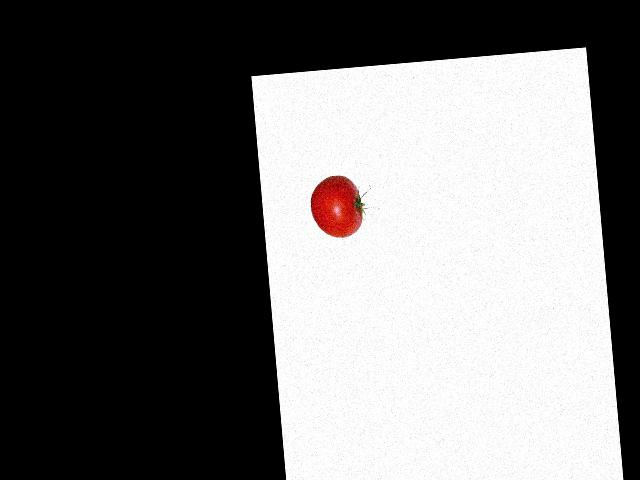tomato: (308, 174, 364, 240)
